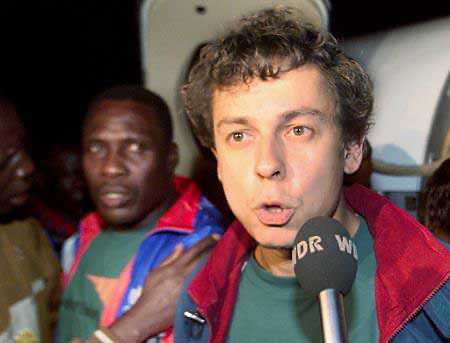Face: (214, 82, 339, 255), (80, 97, 170, 226)
